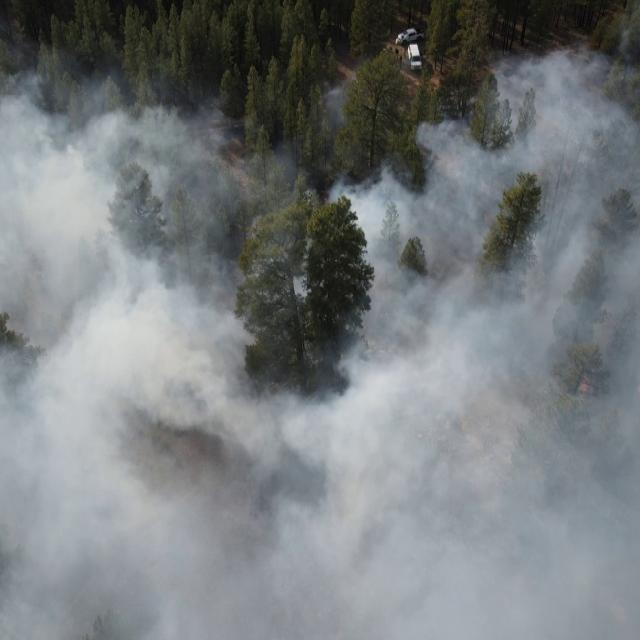fire: (576, 374, 595, 396)
smoke: (0, 67, 243, 640), (490, 49, 640, 640), (243, 136, 332, 640), (412, 116, 490, 640), (332, 172, 412, 640), (318, 88, 351, 132)
